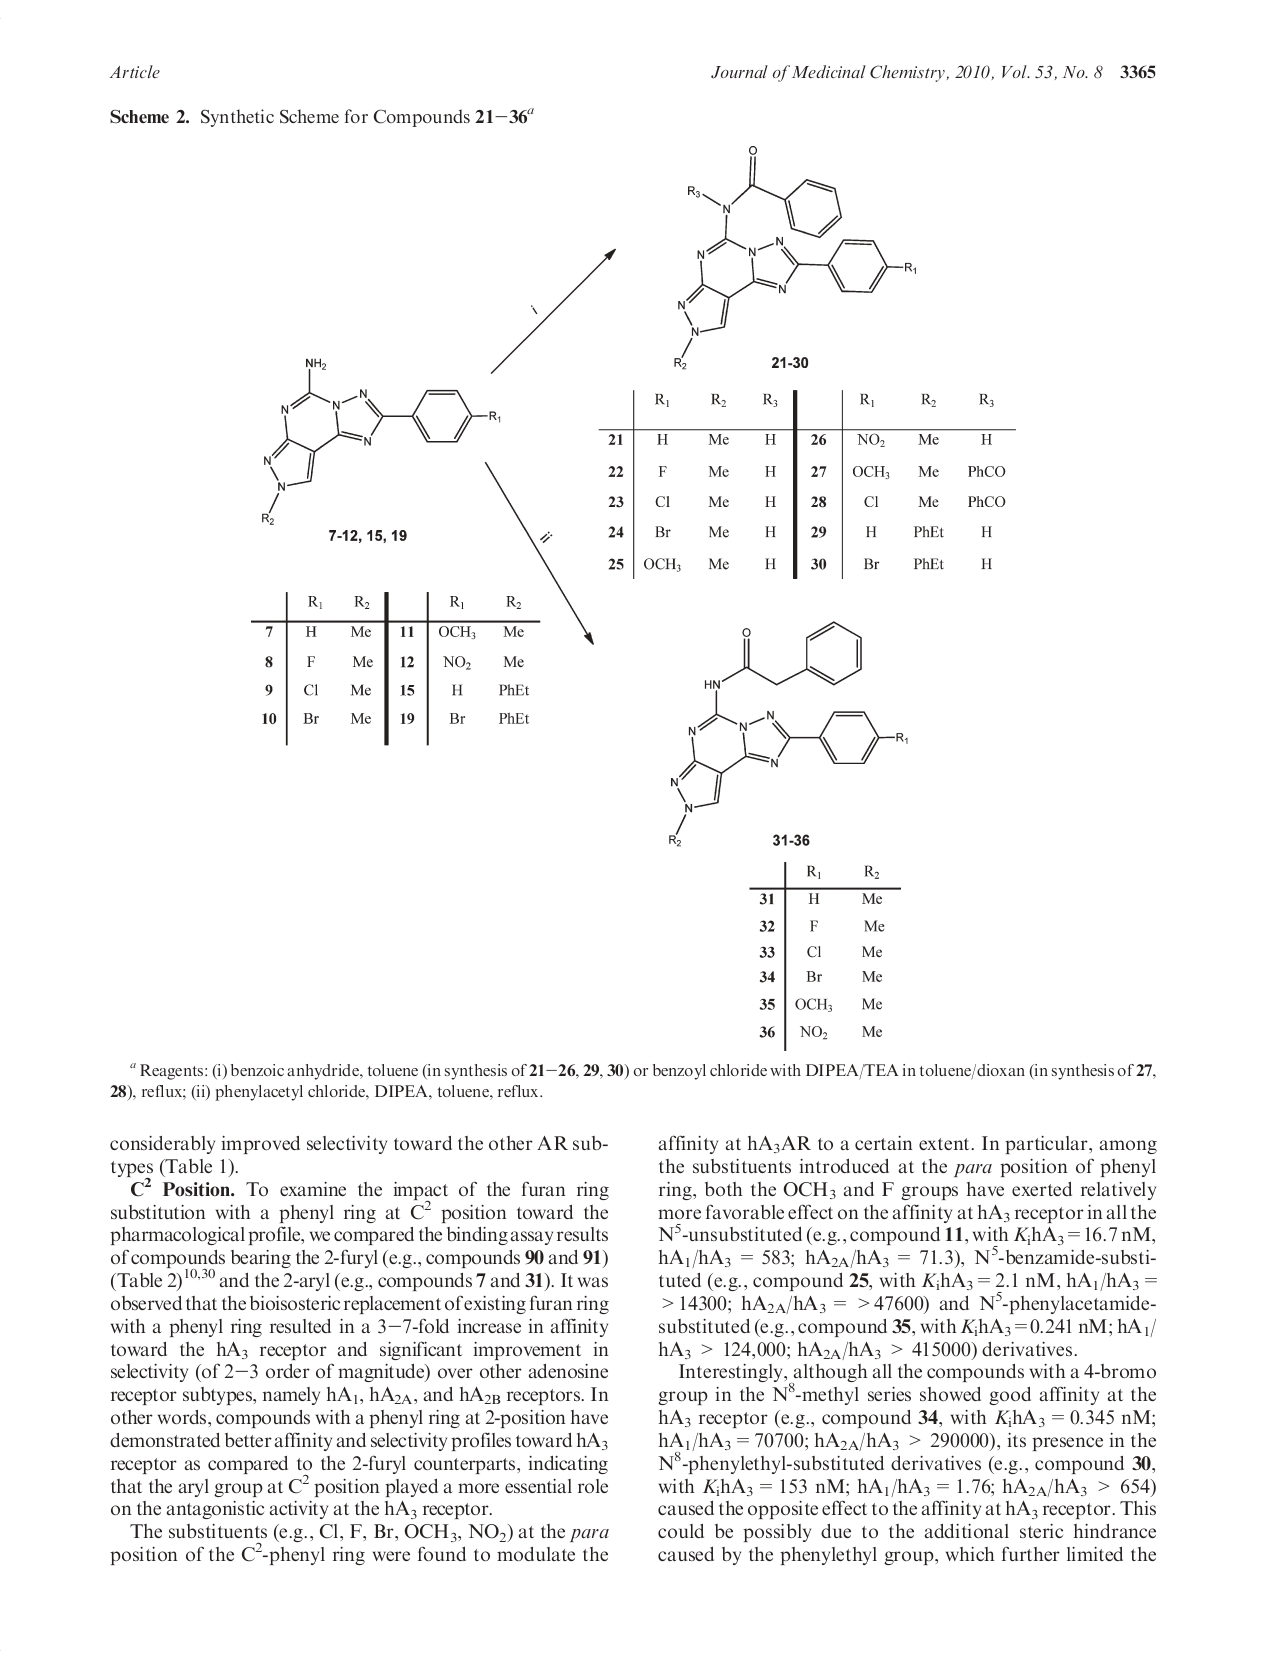exist_molecular: (653, 616, 910, 852), (665, 142, 920, 372), (255, 354, 500, 527)
